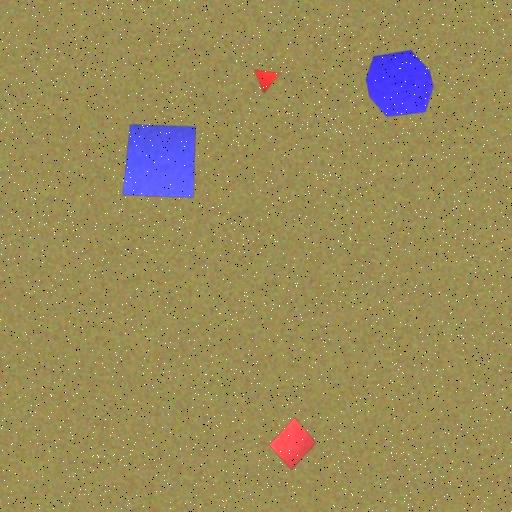BLUE_SQUARE: (122, 124, 197, 198)
RED_SQUARE: (268, 417, 317, 471)
